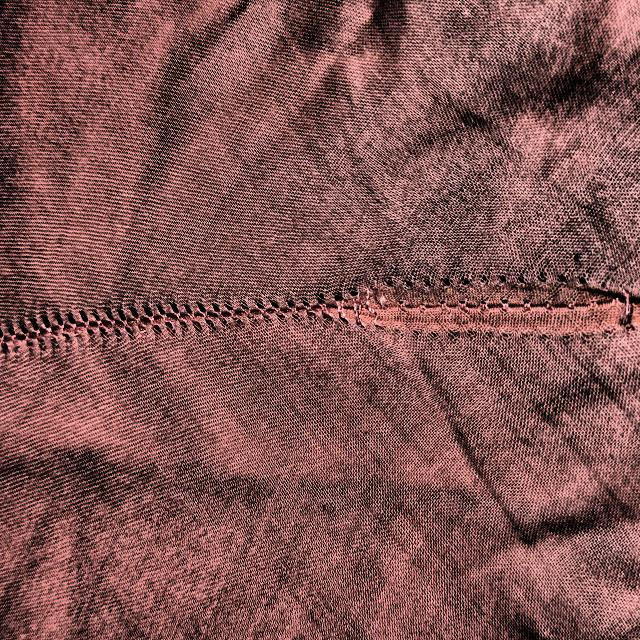seam: (316, 261, 633, 340)
